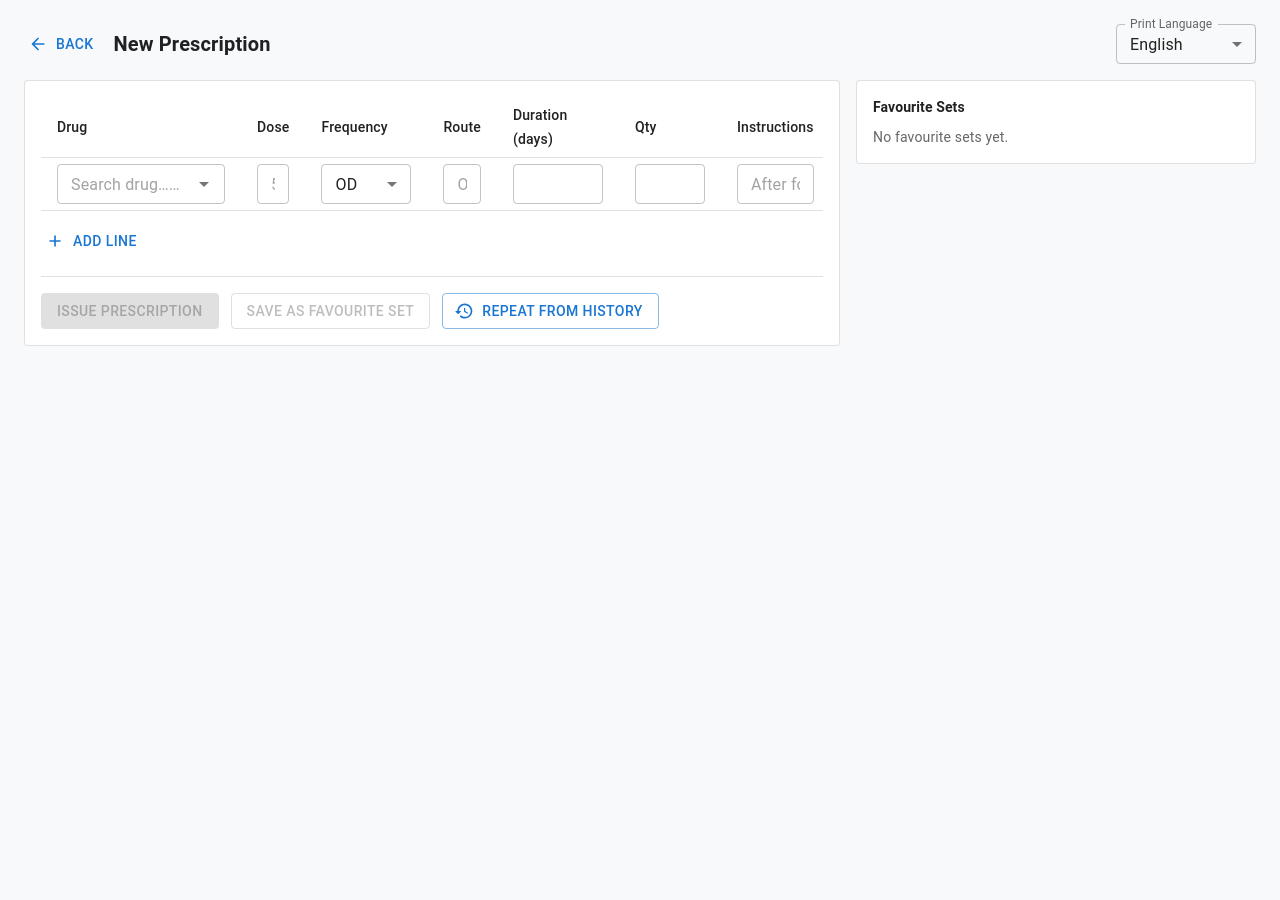
PrescriptionBuilder — drug self-add + favourites (REQ173) › creates a real drug via the quick-add dialog and selects it into the line
Expected: the heading "New Prescription" is shown, [114, 32, 271, 56]
Type "Zolpid" into the dropdown with placeholder "Search drug… (empty = your favourites)".
click(124, 184); type("Zolpid")  # box [63, 170, 186, 198]
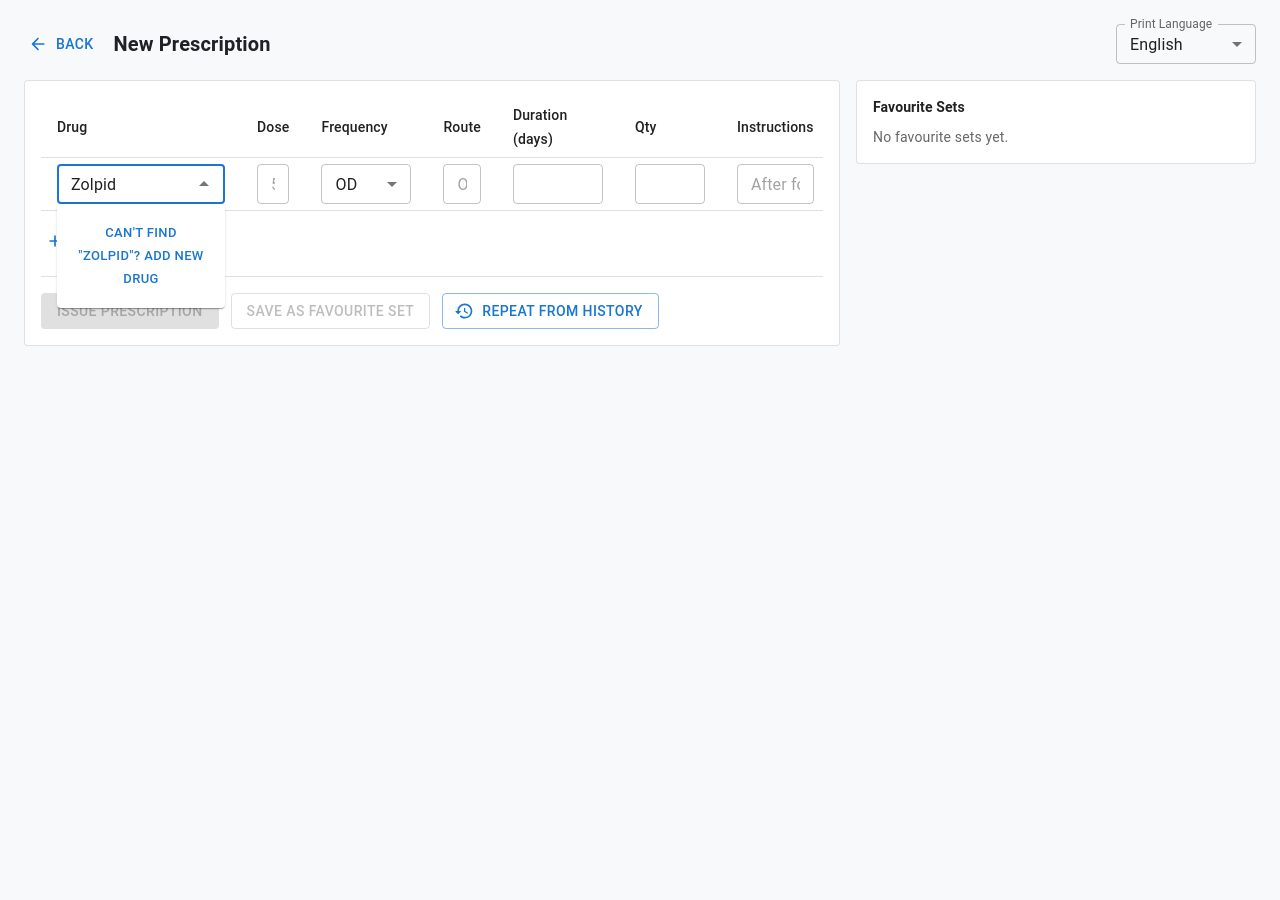
Click the button "Can't find \"Zolpid\"? Add new drug".
click(141, 256)  # box [73, 218, 209, 294]
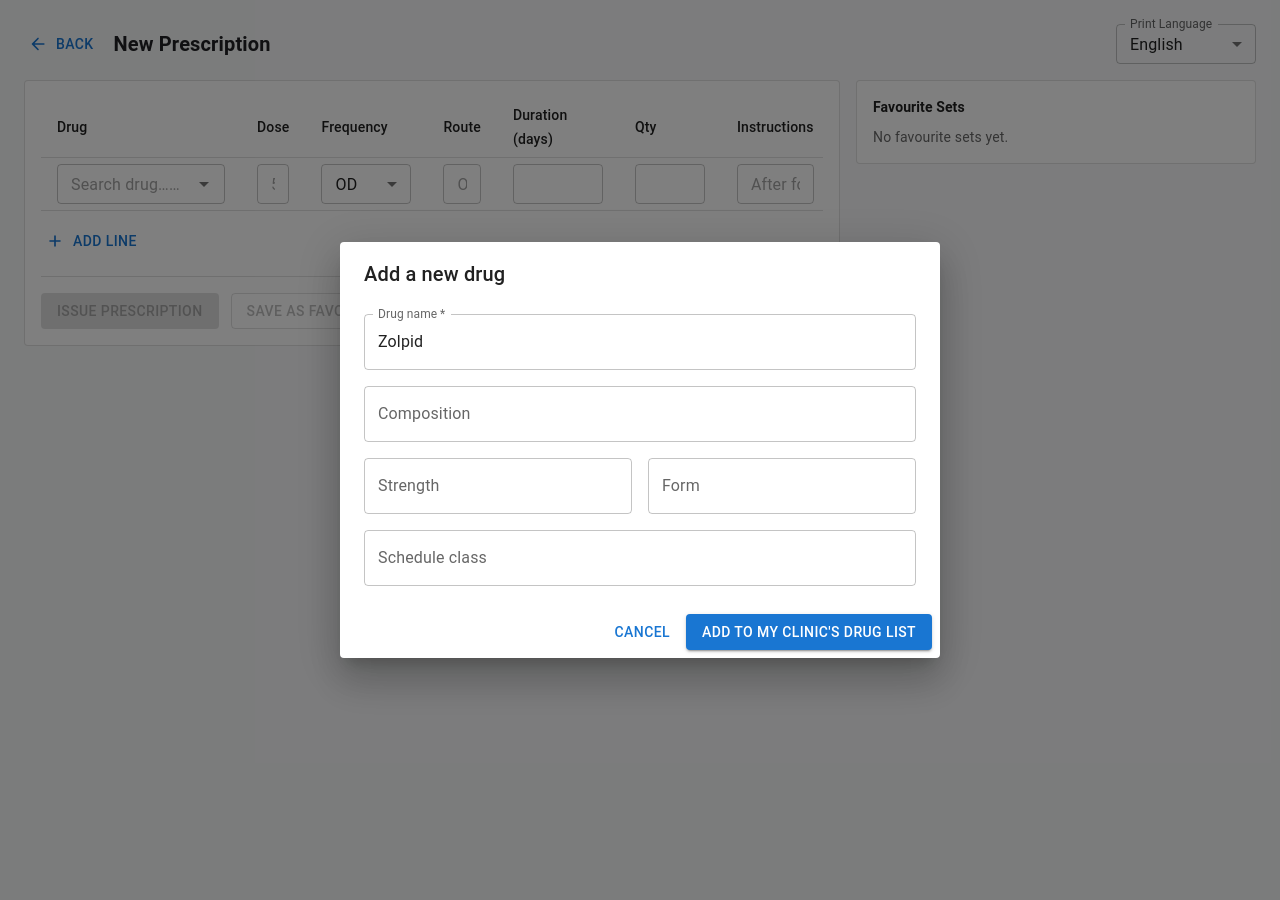
Expected: the field labelled "Drug name *" holds "Zolpid"
Replace the text in the field labelled "Drug name *" with "Zolpidem 10mg" at (640, 342), box [364, 314, 916, 370]
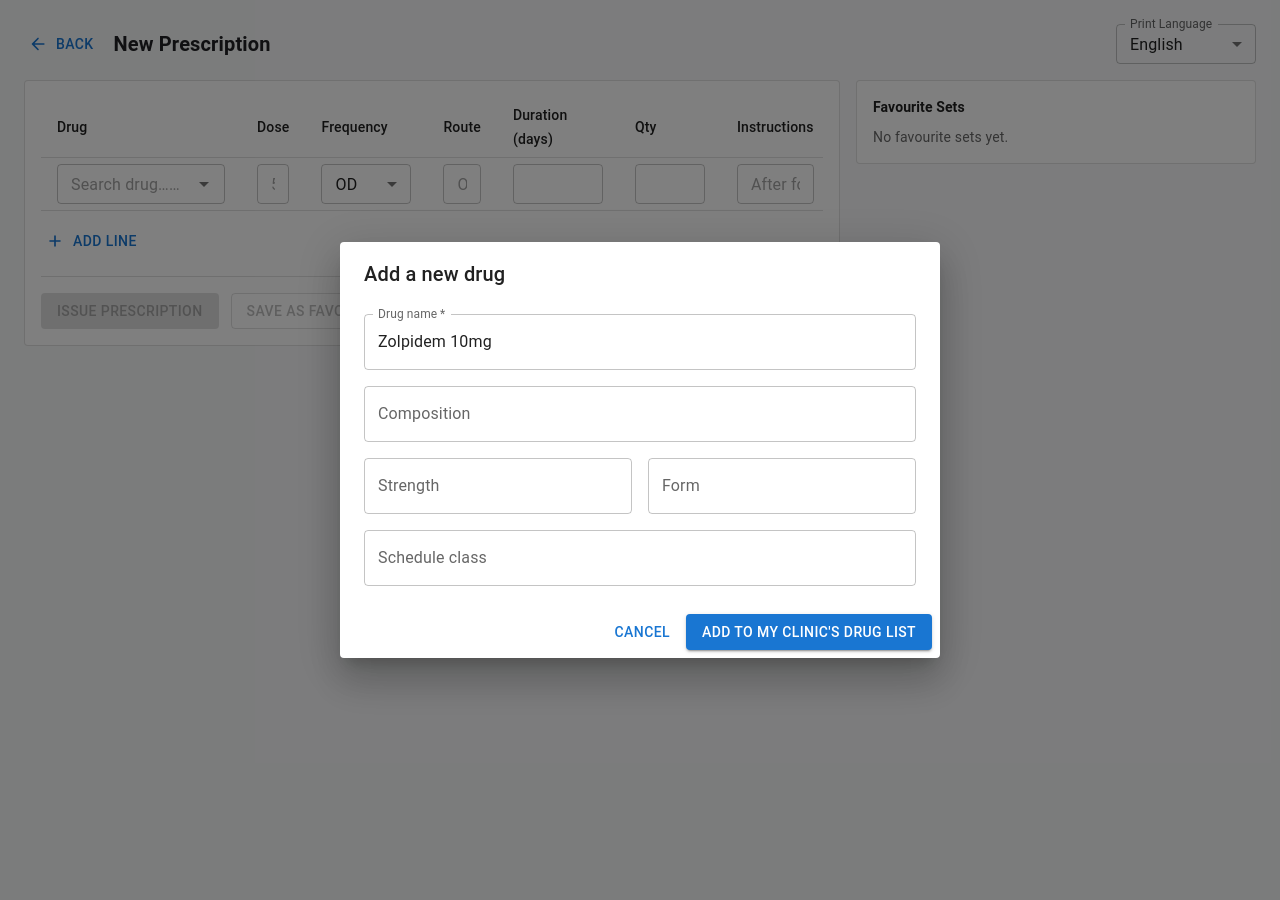
Click the button "Add to my clinic's drug list".
click(809, 632)  # box [686, 614, 932, 650]
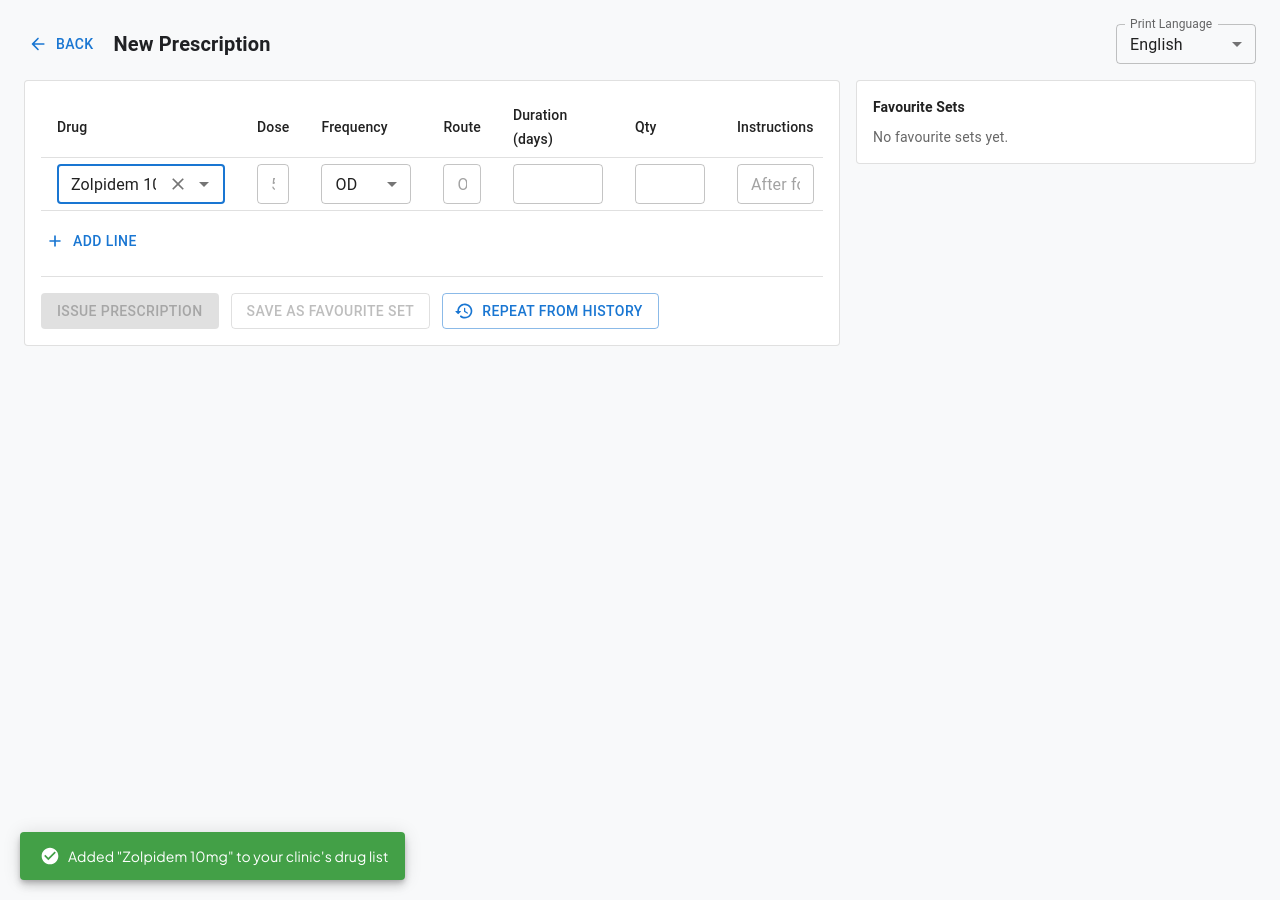
Expected: the dropdown showing "Zolpidem 10mg" is shown, [63, 170, 160, 198]
